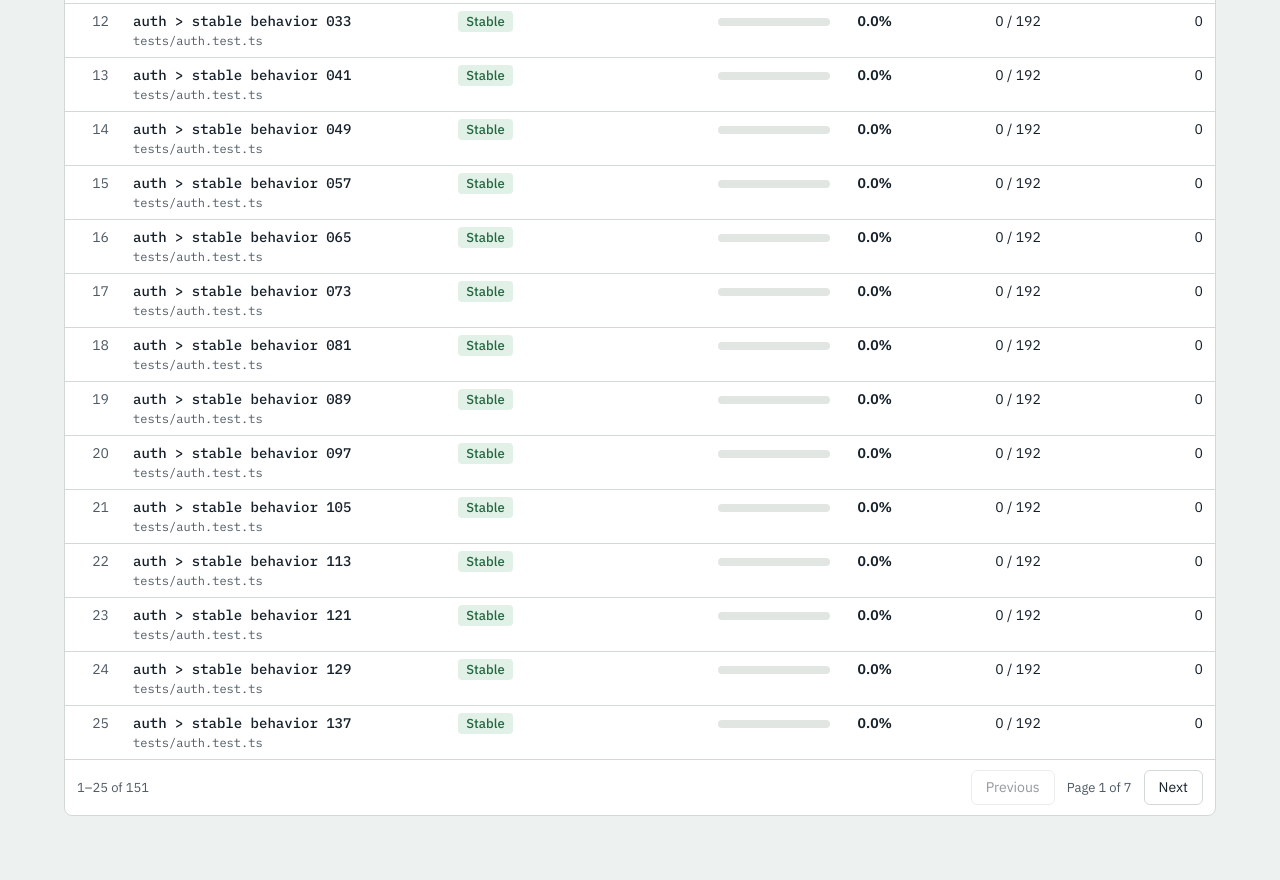
ranked table › REQ-UI-04: shows 25 rows a page, and ranks continue on later pages
This screenshot has width=1280, height=880.
(page scrolled)
Expected: the text "1–25 of 151" is shown, [77, 778, 149, 797]
Expected: the button "Previous" is disabled, [971, 770, 1055, 805]
Click the button "Next".
click(1173, 788)  # box [1144, 770, 1203, 805]
(page scrolled)
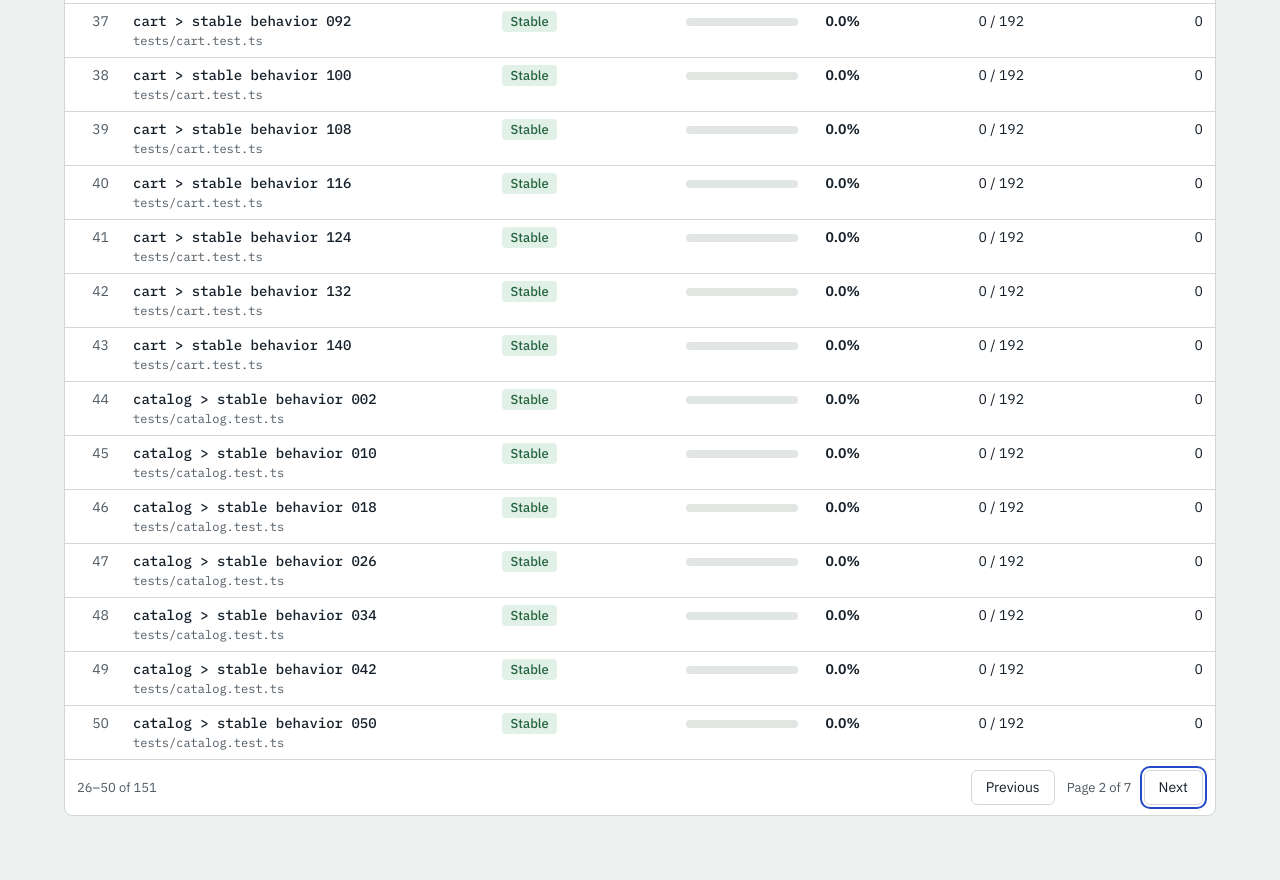
Now the text "26–50 of 151" is shown, box [77, 778, 157, 797]
Now the text "Page 2 of 7" is shown, box [1067, 778, 1132, 797]
Click the button "Previous".
click(1013, 788)  # box [971, 770, 1055, 805]
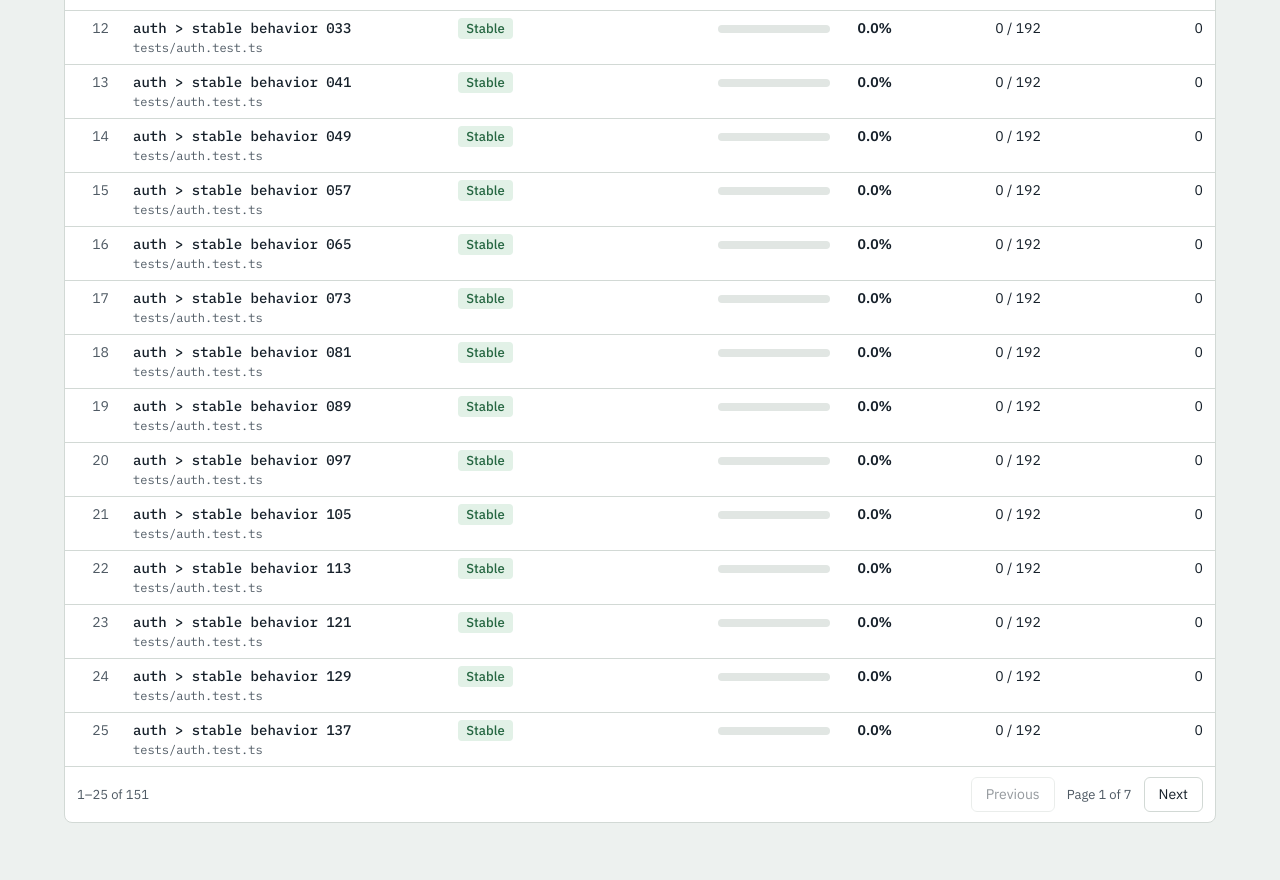
Now the text "1–25 of 151" is shown, box [77, 785, 149, 804]
